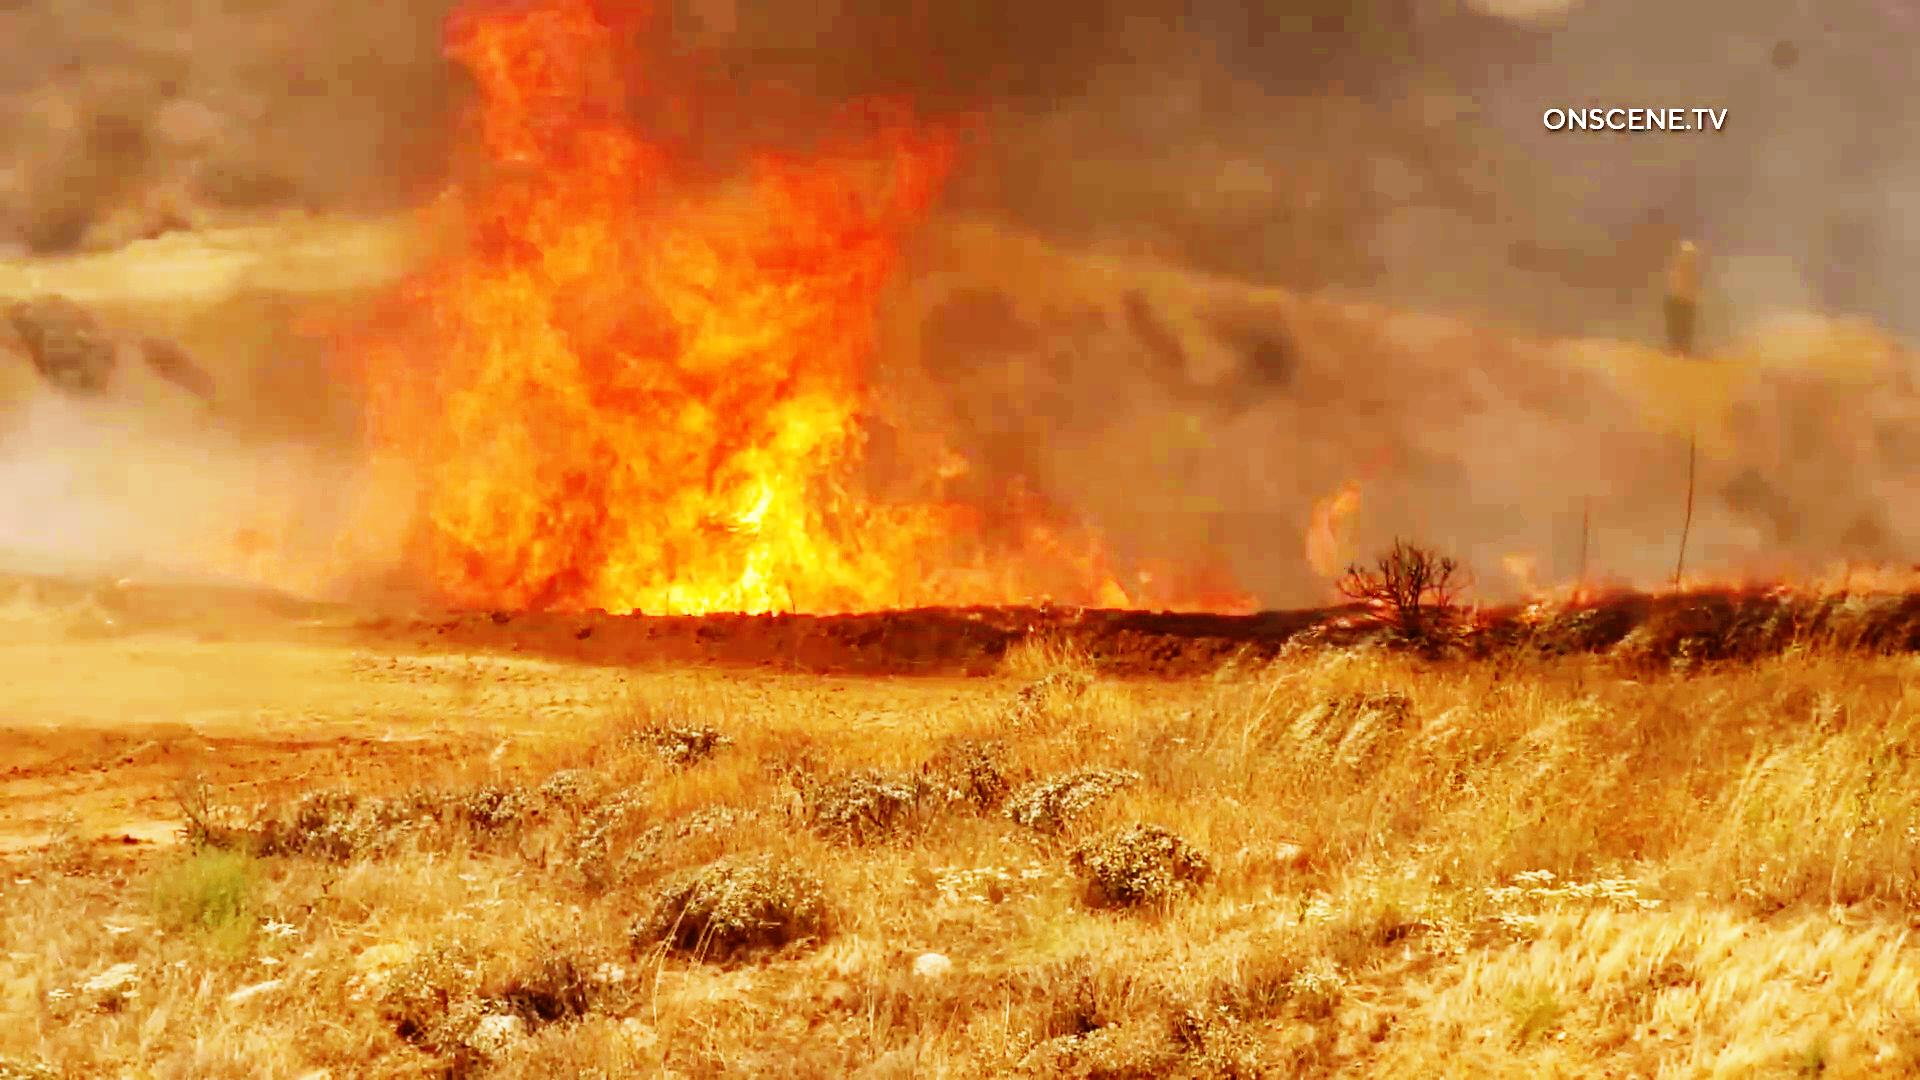fire: (328, 0, 1153, 622)
